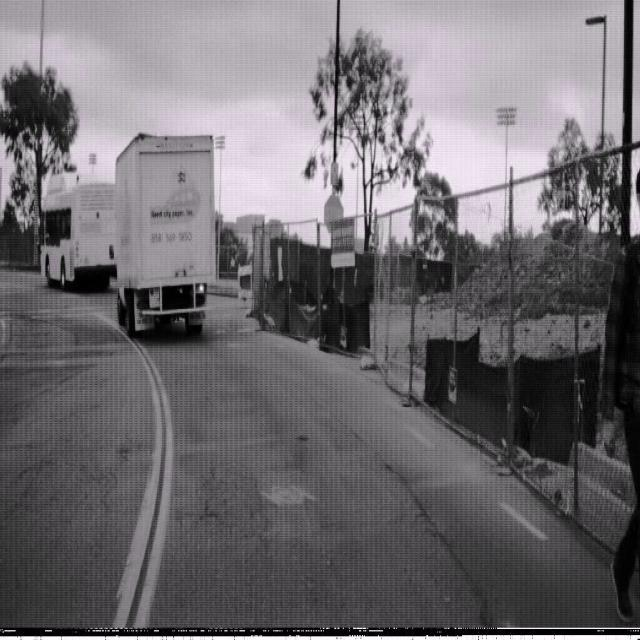stop: (324, 194, 344, 235)
